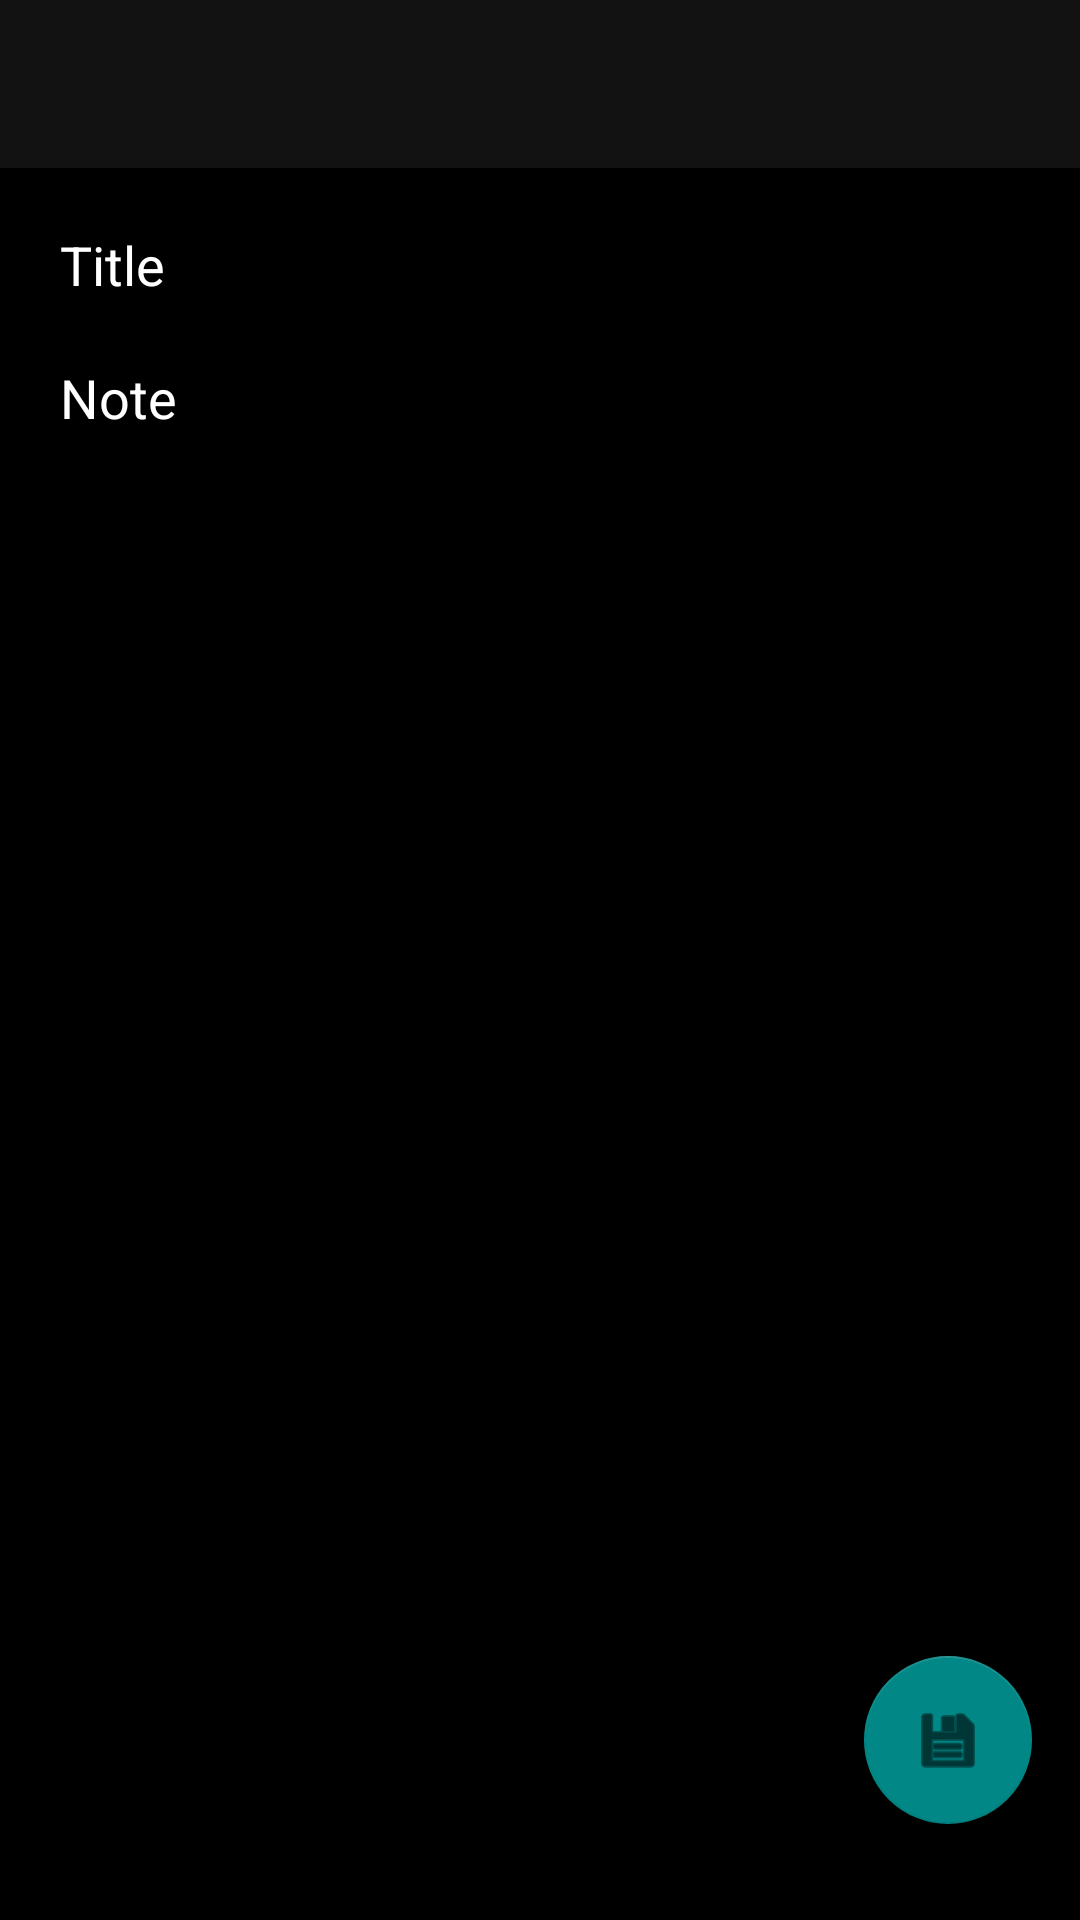

Point at icon controls on the screen. Image size 1080px x 1920px, points as point (x, y).
save: point (948, 1740)
